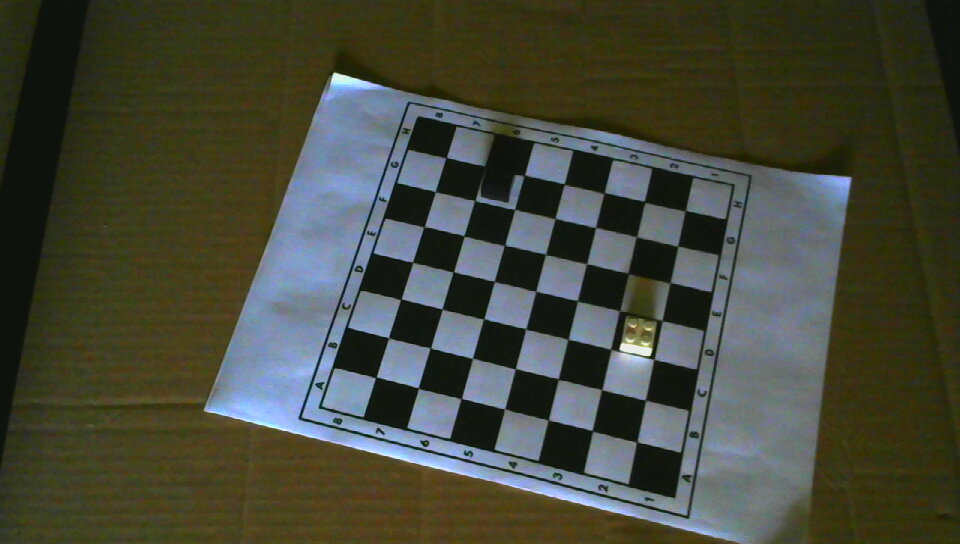bp: (478, 163, 515, 203)
wp: (617, 314, 658, 357)
